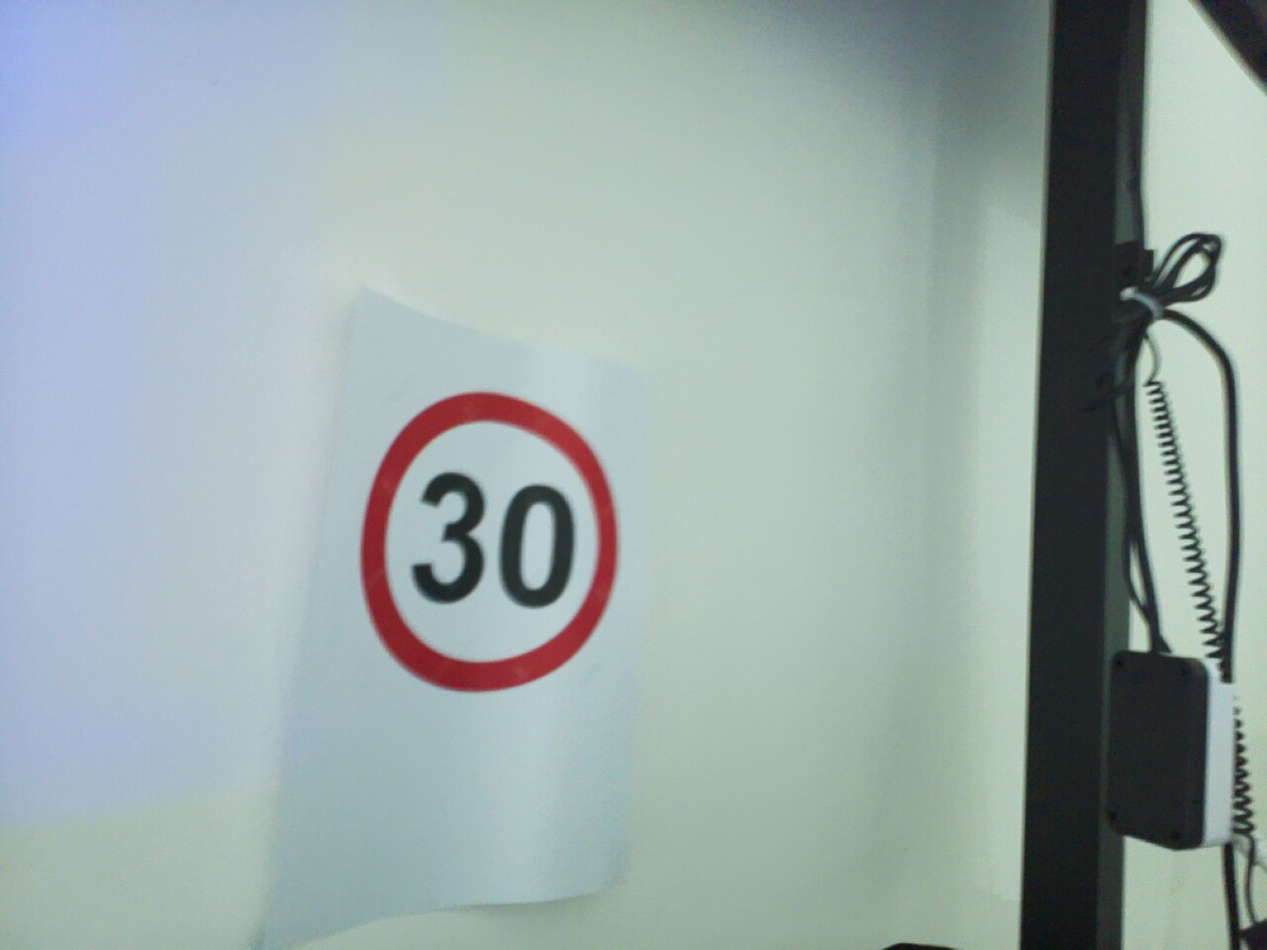speed_30: (1115, 0, 1246, 950)
